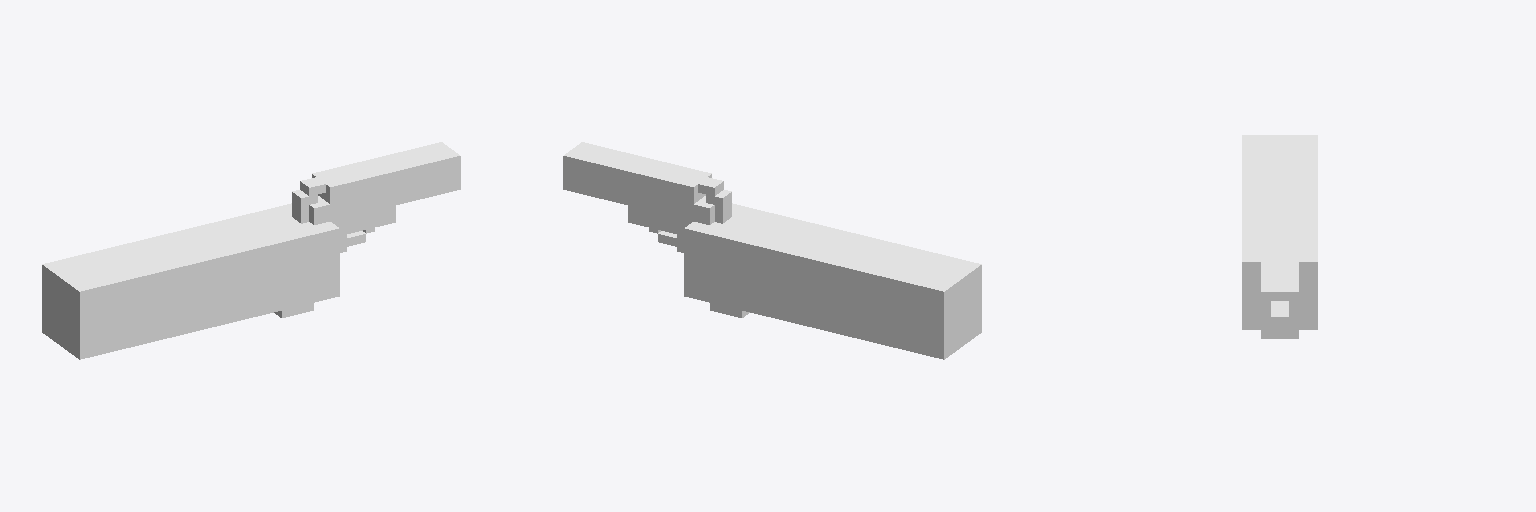
Rendered from PlayerArmWithRevolver.obj.
The picture shows the model from 3 angles: view 1: azimuth 30°, elevation 25°; view 2: azimuth 150°, elevation 25°; view 3: azimuth 270°, elevation 25°; orthographic projection.
Size of the model in its own units: 48 by 14 by 8.